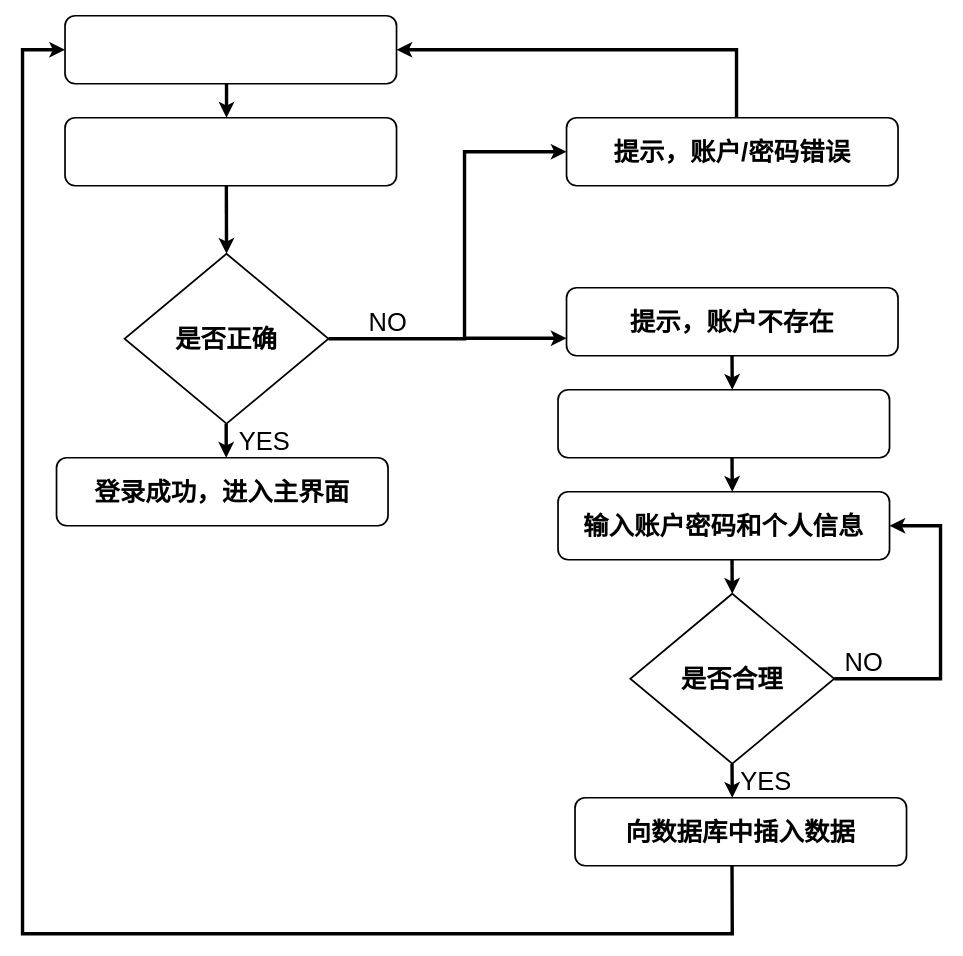
The diagram is 963 pixels wide and 956 high, and some of its shapes have lost their labels. Each missing label, with the box of its shape:
点击登录，向数据库发起查询: (64, 116, 397, 186)
输入账号、密码: (64, 14, 397, 84)
进入注册页面: (557, 388, 890, 458)
